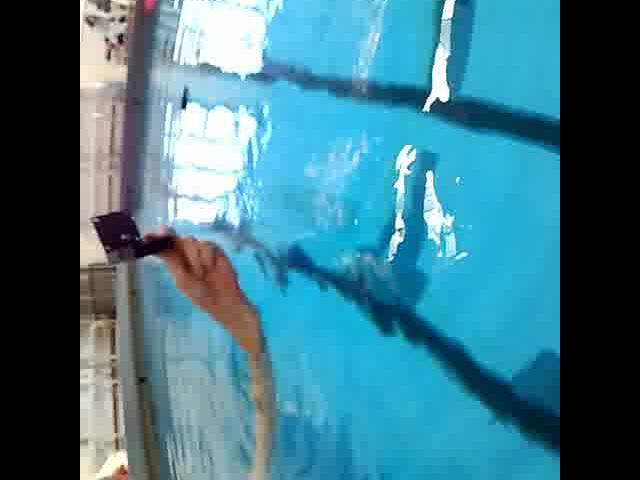CamMount: (86, 205, 175, 270)
